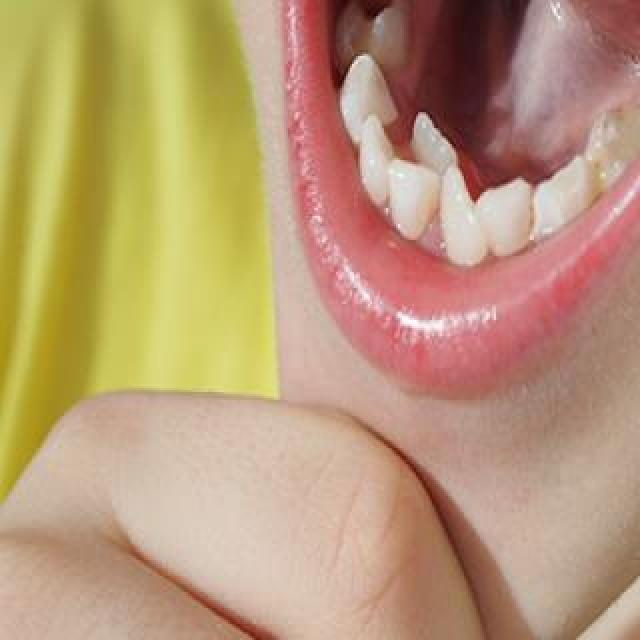maligned: (433, 158, 491, 272), (383, 161, 445, 251), (404, 111, 472, 193)
